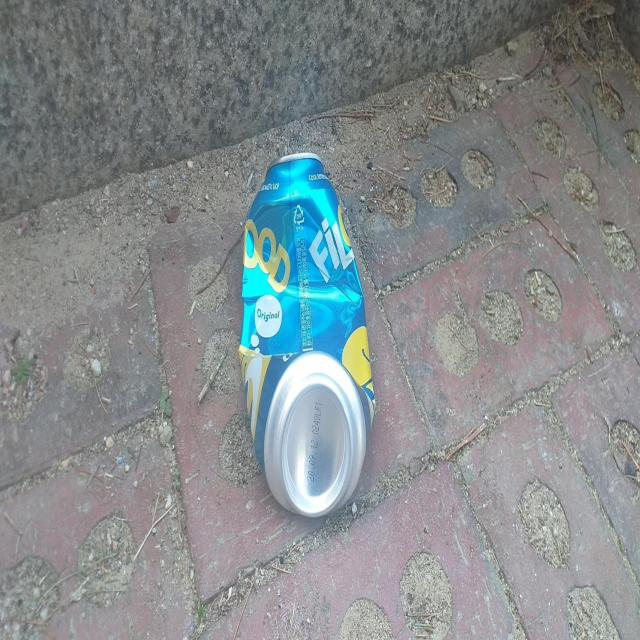can: (238, 151, 376, 517)
